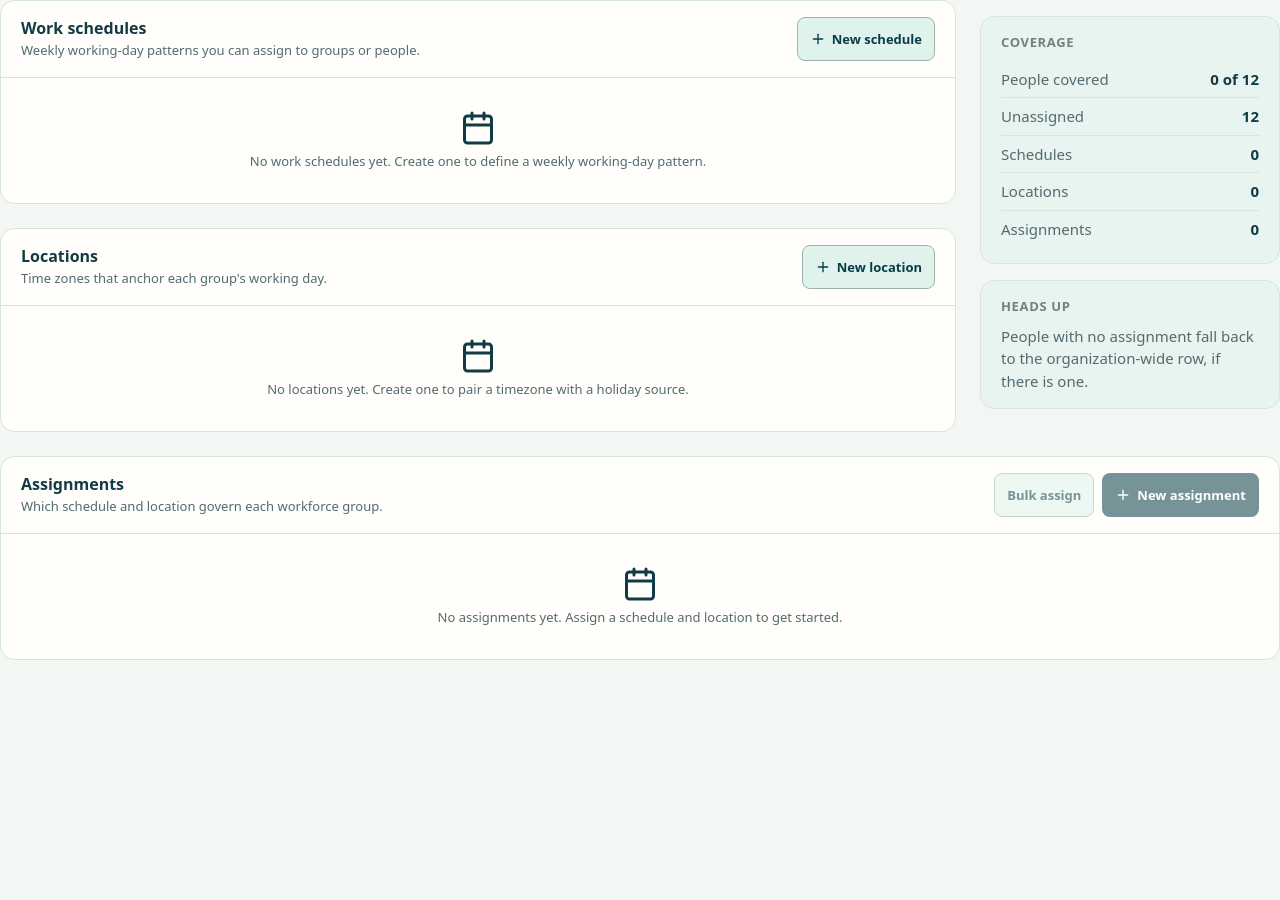
ScheduleLocationSettingsPage › explains the empty holiday source when the organization has no workforce groups
The width and height of the screenshot is (1280, 900).
What coordinates should you click on to do the following:
click the button with test id "new-location-context"
I would click on:
 (868, 267)
Its box is [802,245,935,289].
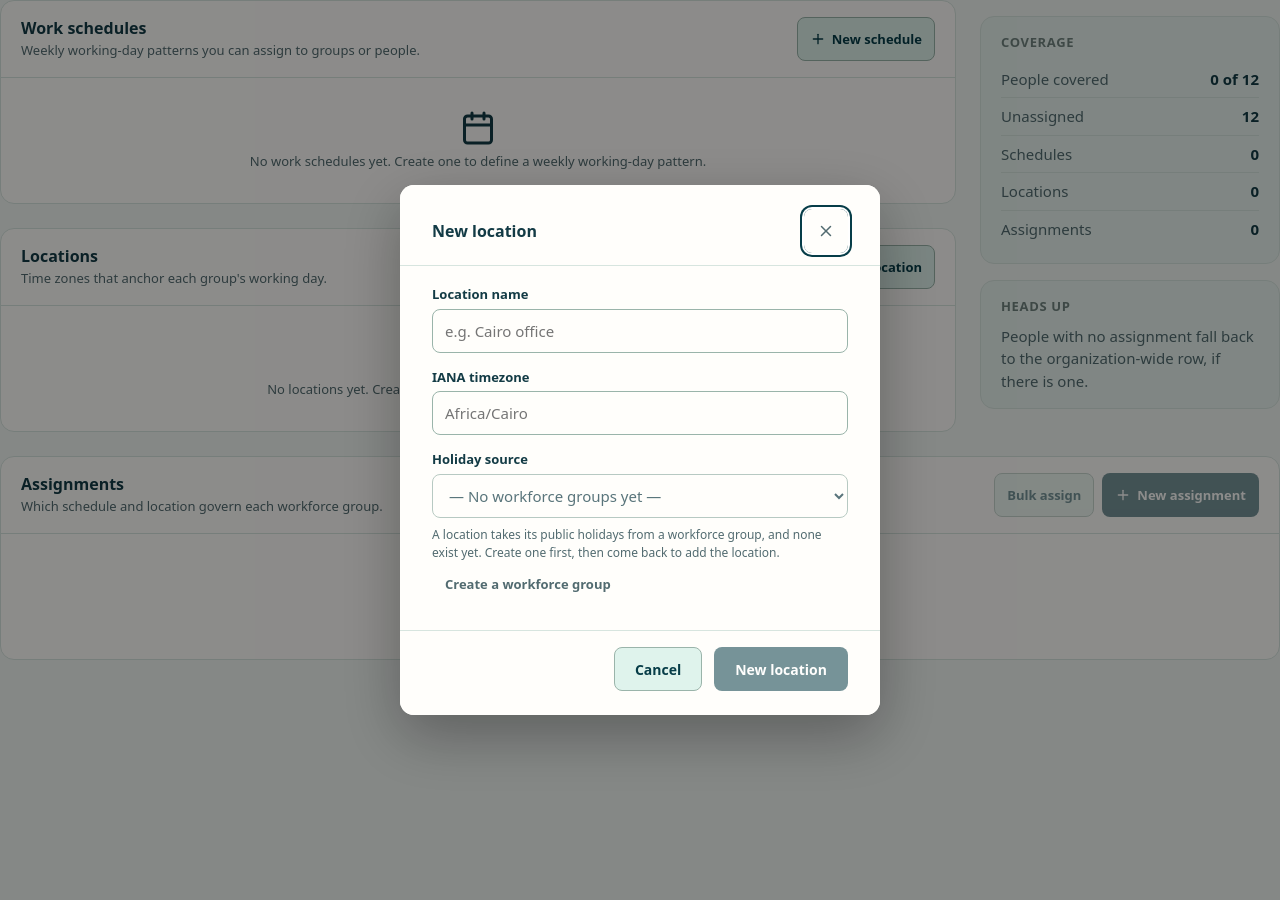
expect the element with test id "location-no-groups-hint" shows "takes its public holidays from a workforce group": met, box [432,526,822,561]
expect the dropdown labelled "Holiday source" is disabled: met, box [432,474,848,518]
expect the button with test id "create-location-context-submit" is disabled: met, box [714,647,848,691]
